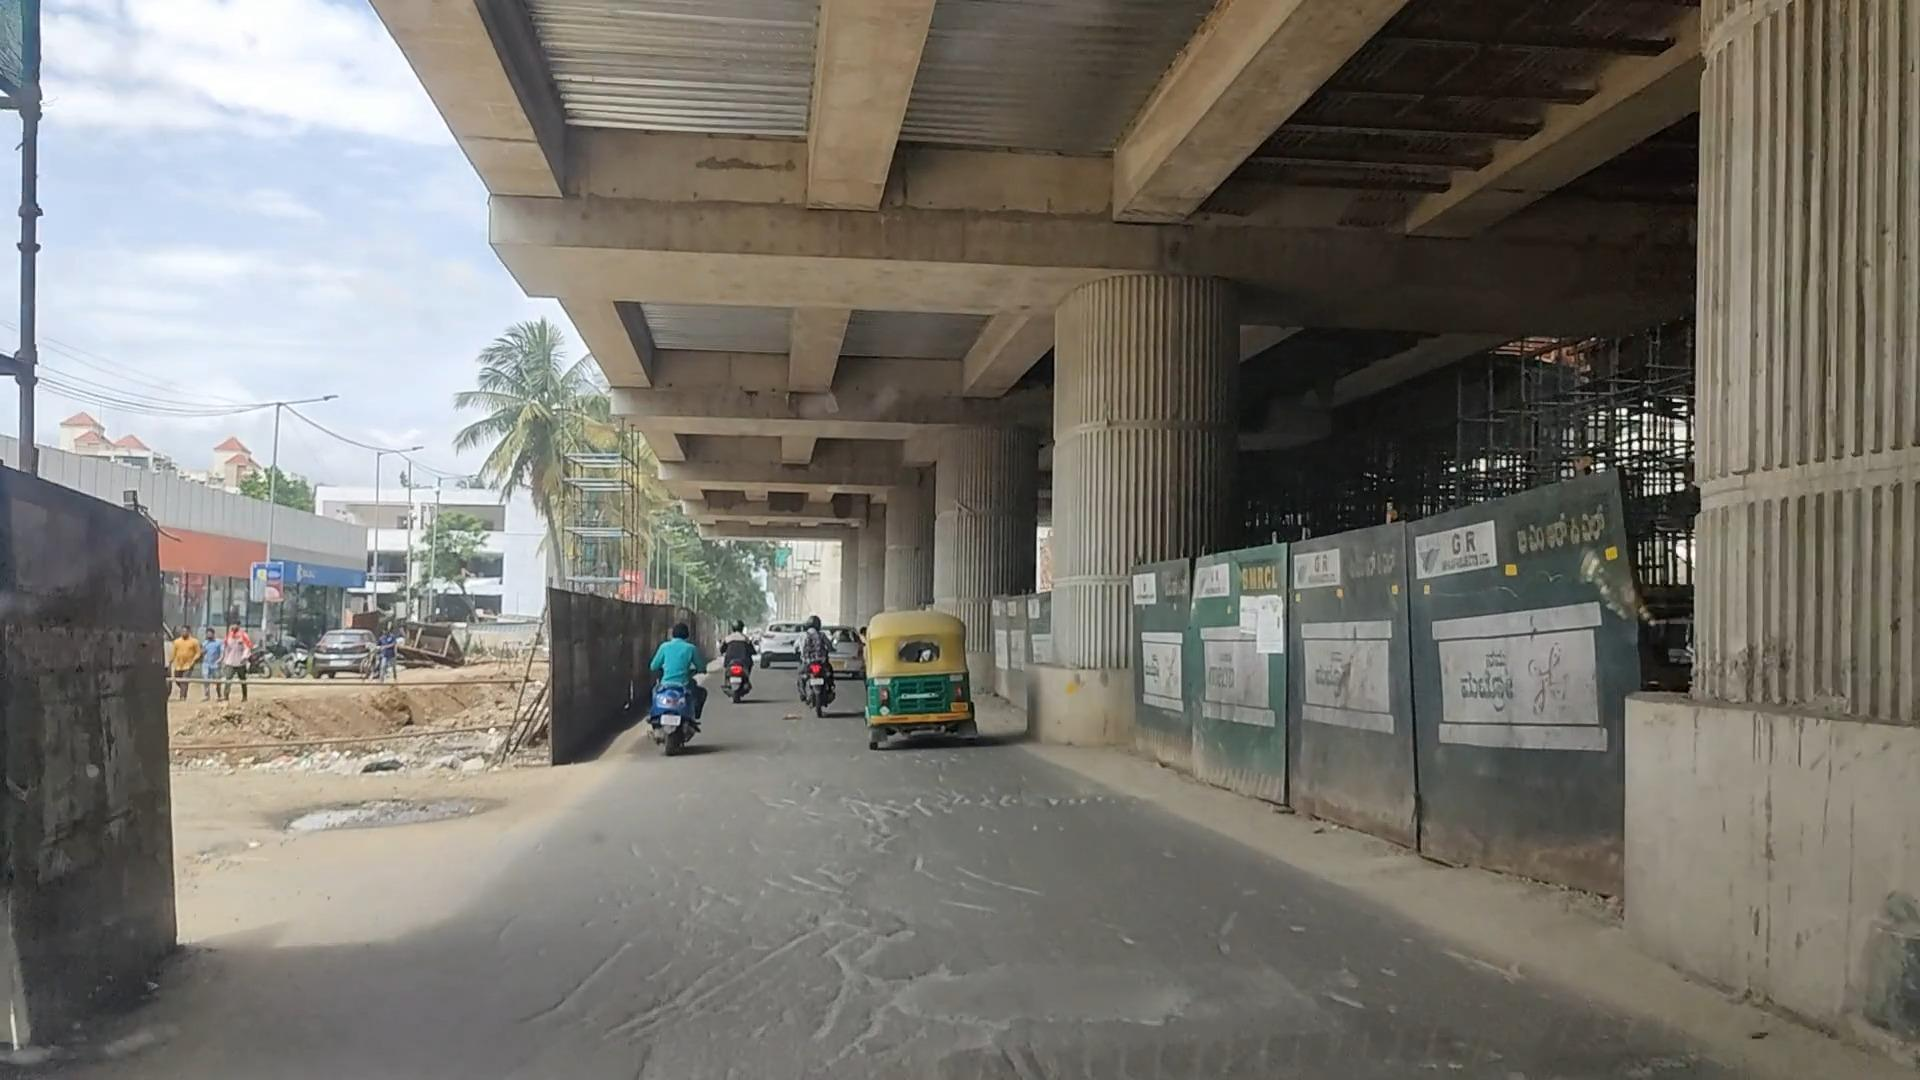LMV: (858, 601, 982, 770), (651, 616, 712, 777), (796, 607, 844, 744)
RoadDamages: (575, 903, 1681, 1072), (704, 771, 1150, 922), (269, 789, 526, 856)
